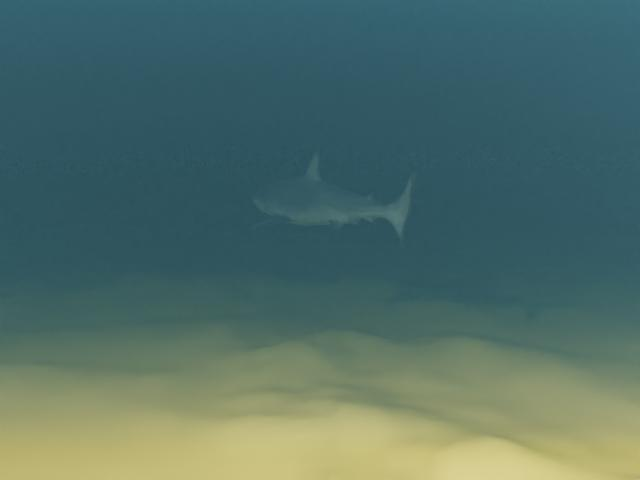Carribean Shark.001: (243, 148, 416, 246)
